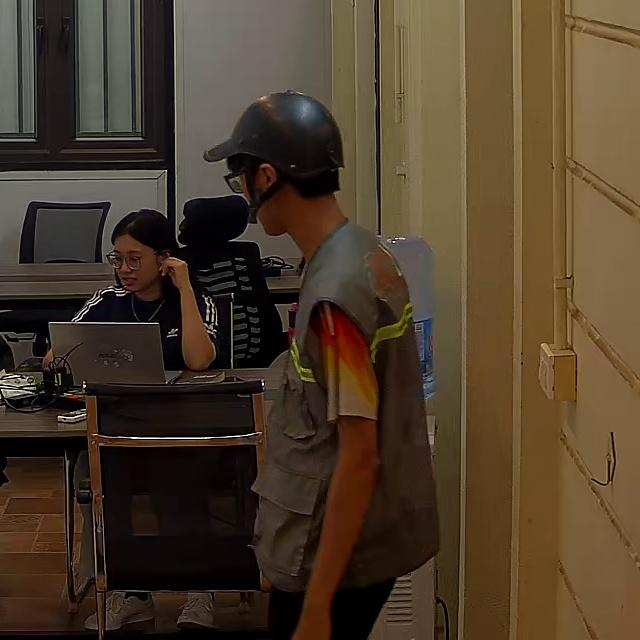helmet: (203, 90, 346, 181)
no_helmet: (111, 209, 173, 248)
none: (67, 284, 220, 370)
vest: (252, 230, 436, 592)
